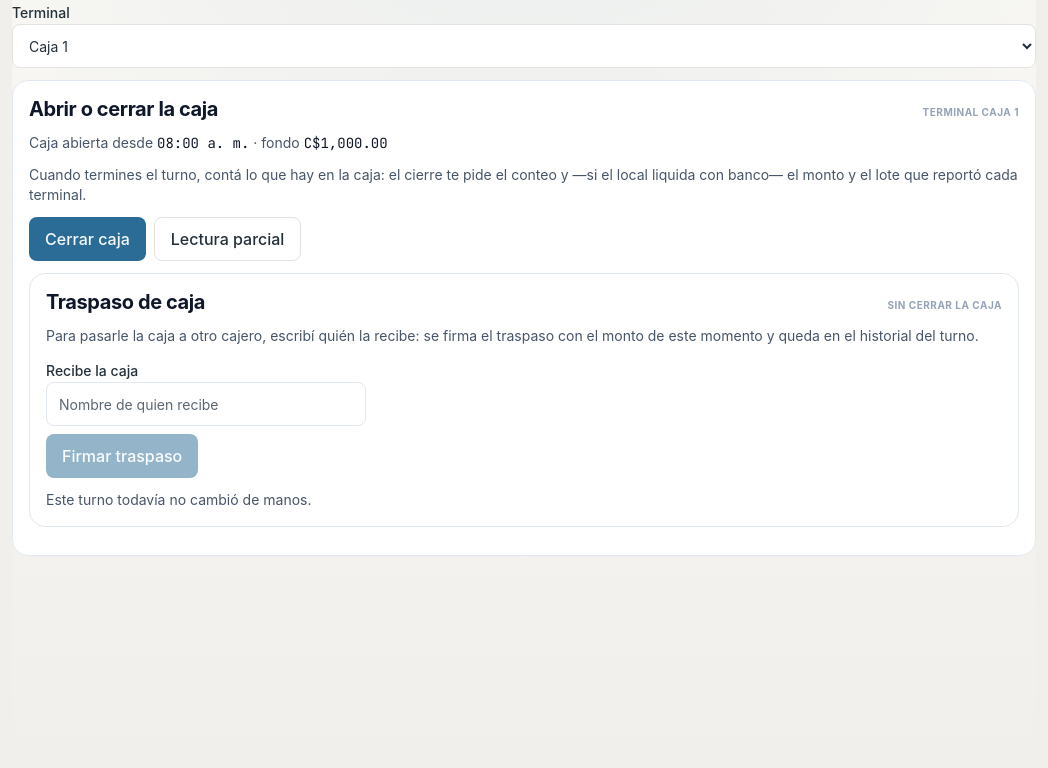
Test: CashView › con dos terminales deja elegir en cuál está y lee la caja de esa terminal
The width and height of the screenshot is (1048, 768).
Expected: the text "Caja abierta desde 08:00 a. m. · fondo C$1,000.00" is shown, [29,134,388,152]
Step 1. Select "Barra" in the dropdown labelled "Terminal" → [524, 46], box [12,24,1036,68]
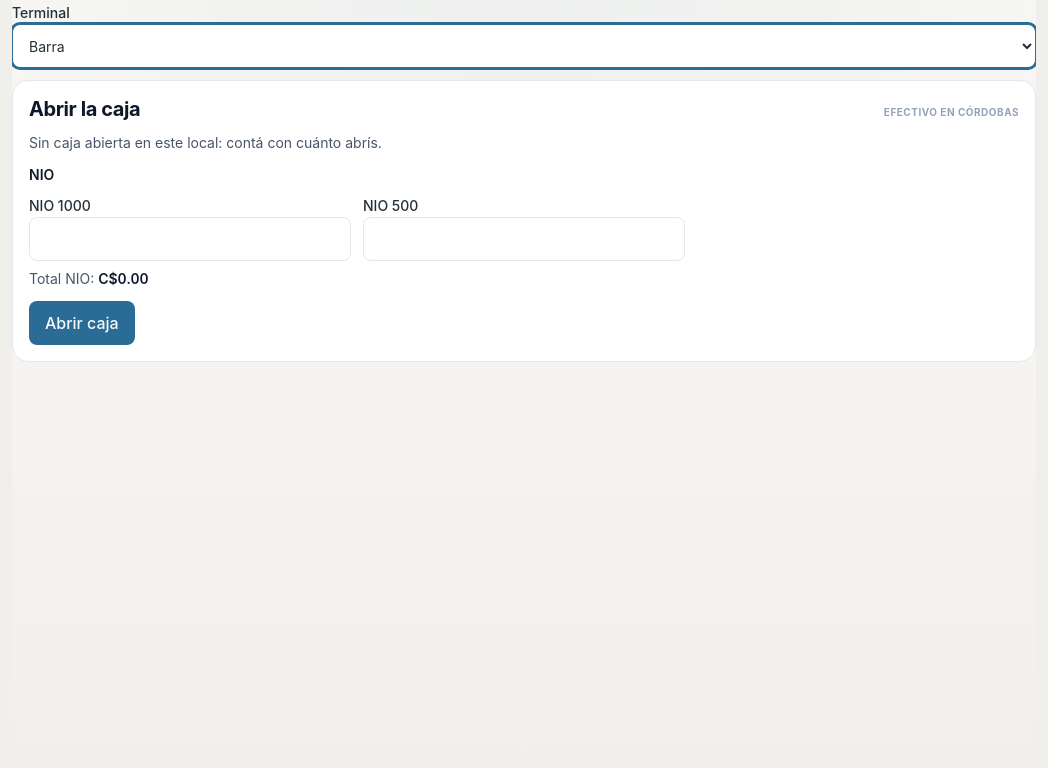
Result: the text "Sin caja abierta en este local: contá con cuánto abrís." is shown at [29,134,382,151]
